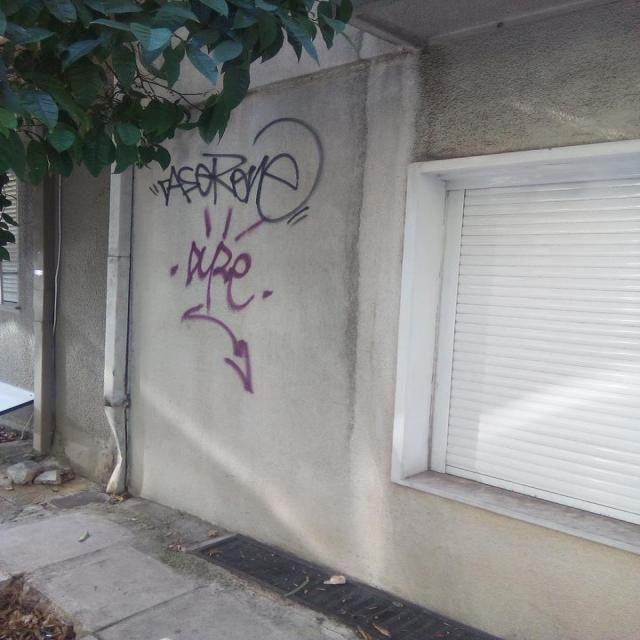nonspitting: (146, 115, 327, 228), (167, 206, 274, 394)
